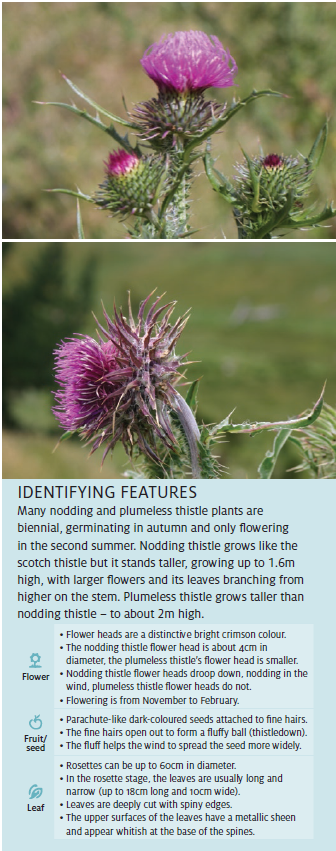thistle: (43, 291, 186, 447), (128, 33, 237, 143), (93, 154, 182, 217)
